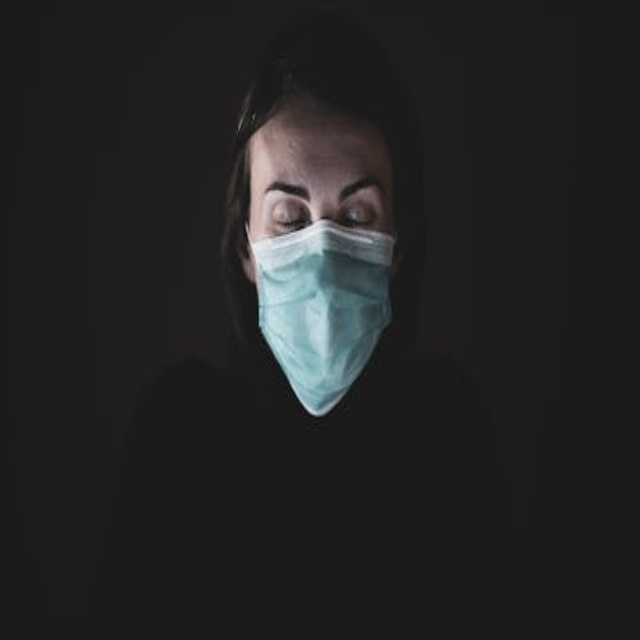Mascara: (246, 219, 396, 414)
Sin_gafas: (247, 171, 389, 250)
